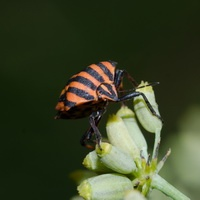insect: (55, 61, 161, 140)
